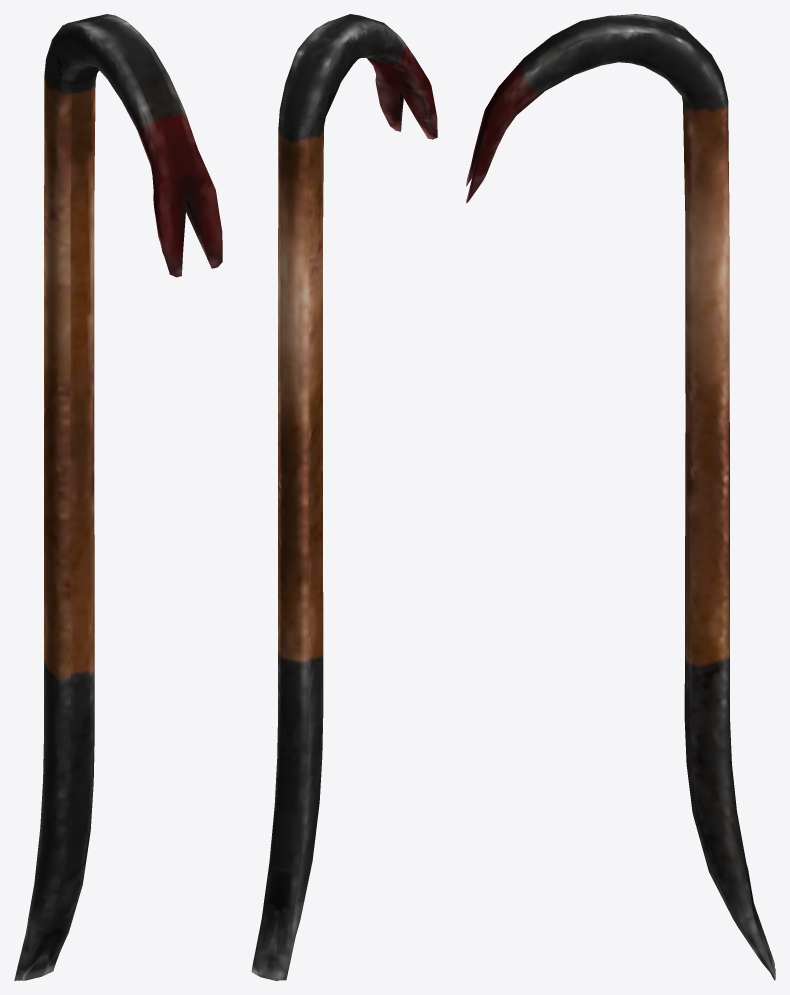
Rendered from CrowbarLowPolyGeneric.fbx.
3 views of the same model, side by side, from view 1: azimuth 30°, elevation 25°; view 2: azimuth 150°, elevation 25°; view 3: azimuth 270°, elevation 25° (orthographic). The views are drawn at different scales.
Parts seen in each view (by area): view 1: Cube; view 2: Cube; view 3: Cube.
Part boxes in pixels (left/top/right/bottom): Cube: left=14, top=14, right=222, bottom=980; Cube: left=251, top=14, right=437, bottom=980; Cube: left=466, top=14, right=775, bottom=980.
Bounding box in the file's own units: 19.5 × 310 × 91.21.
